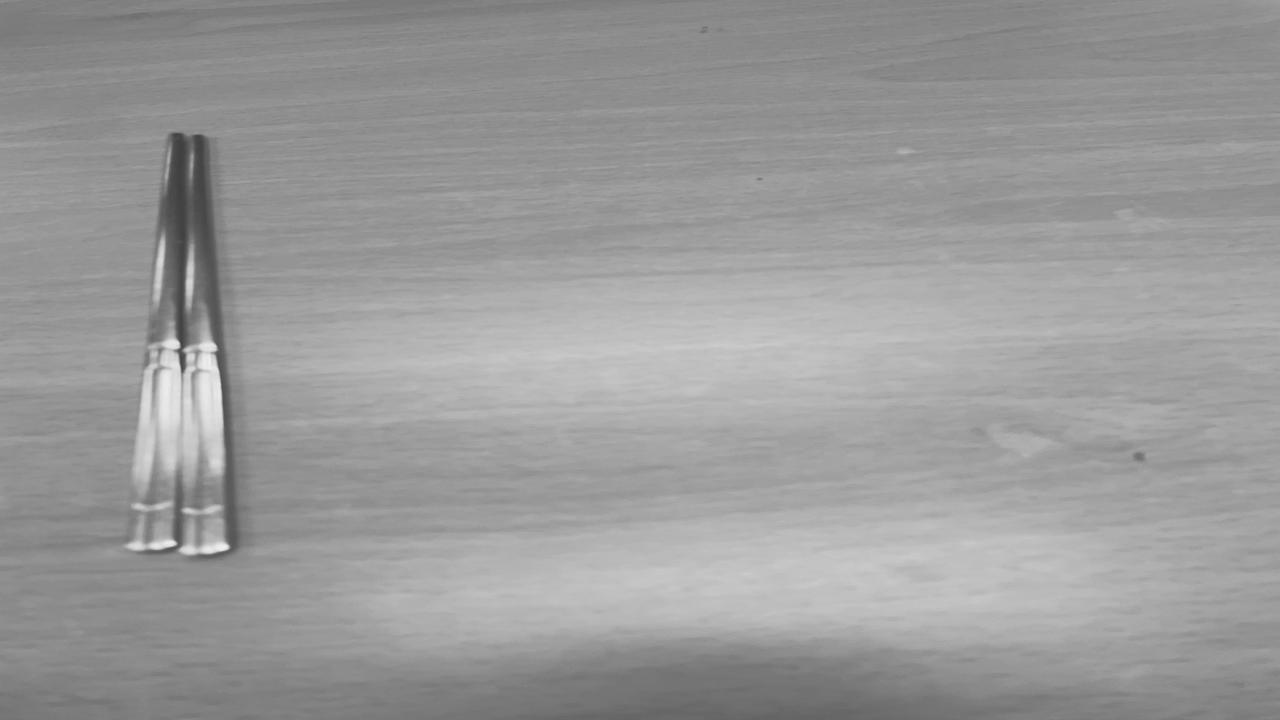chopstick: (127, 133, 224, 550)
